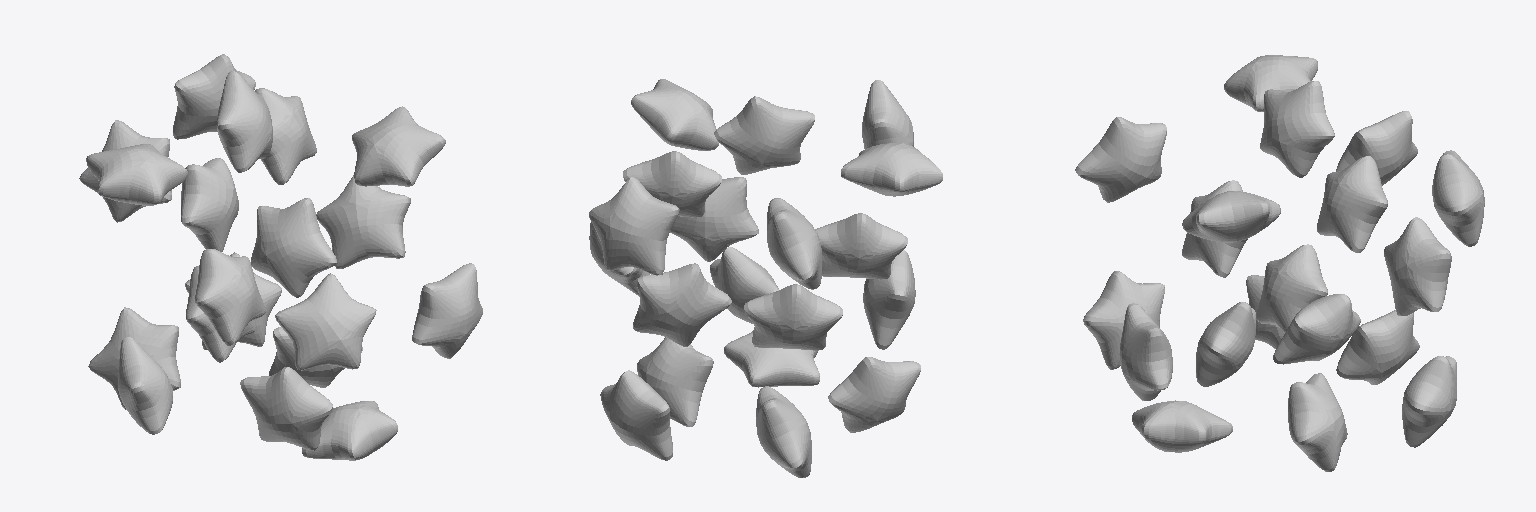
File: Star_Boba.obj
The picture shows the model from 3 angles: view 1: azimuth 30°, elevation 25°; view 2: azimuth 150°, elevation 25°; view 3: azimuth 270°, elevation 25°; orthographic projection.
Visible parts, largest first — view 1: Star_Boba; view 2: Star_Boba; view 3: Star_Boba.
Boxes of the visible parts, box(x1,y1,x2,y2) form: Star_Boba: box(79, 54, 482, 460); Star_Boba: box(589, 79, 942, 477); Star_Boba: box(1075, 55, 1484, 471).
Bounding box in the file's own units: 6.7 × 6.66 × 7.15.